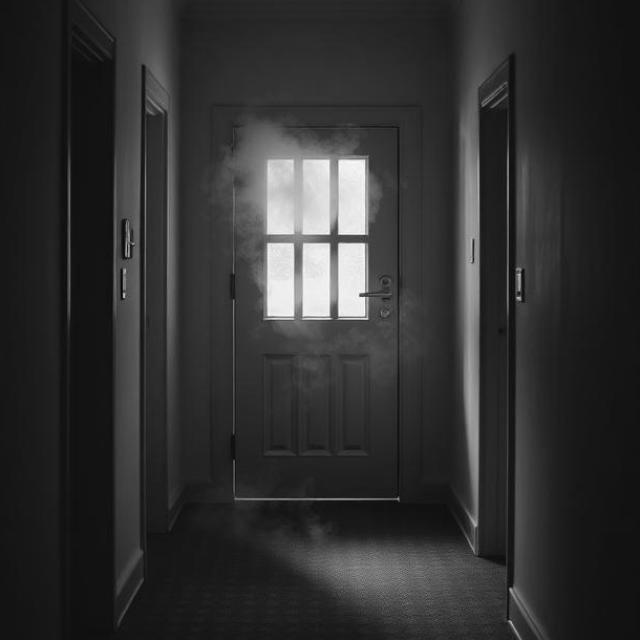fire: (212, 102, 425, 394), (182, 472, 335, 554)
